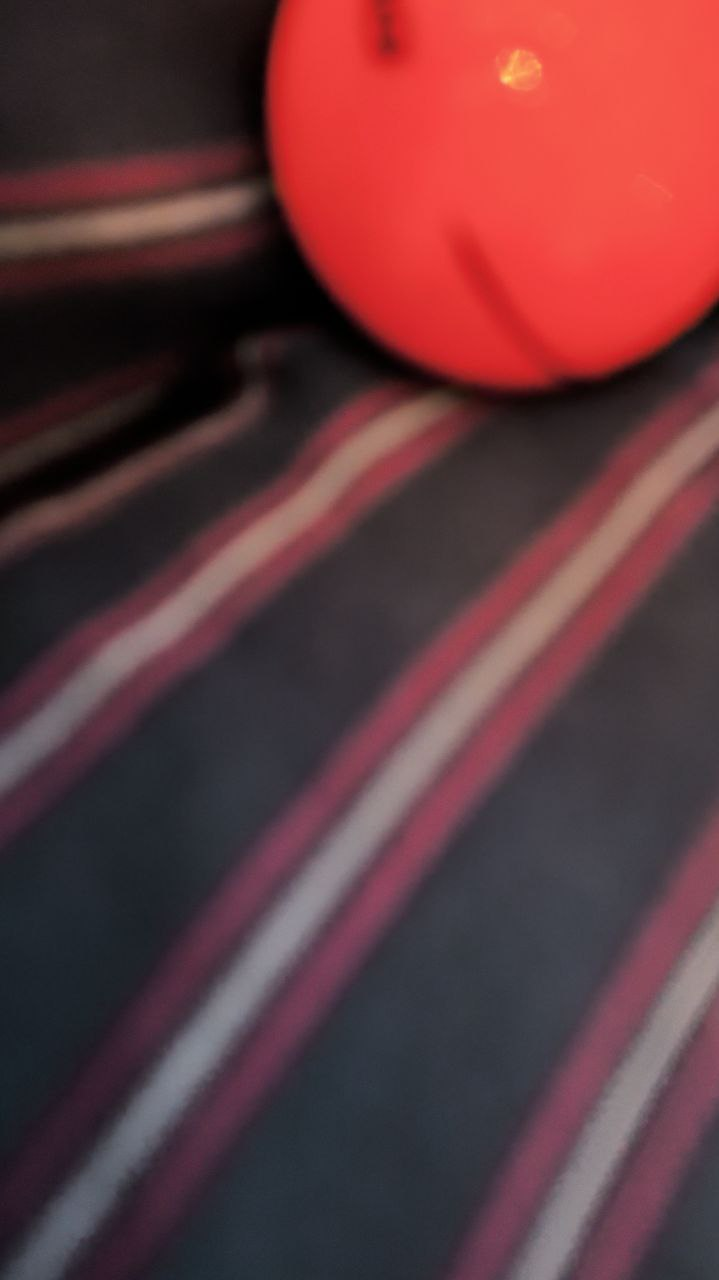orange_ball: (265, 0, 719, 389)
